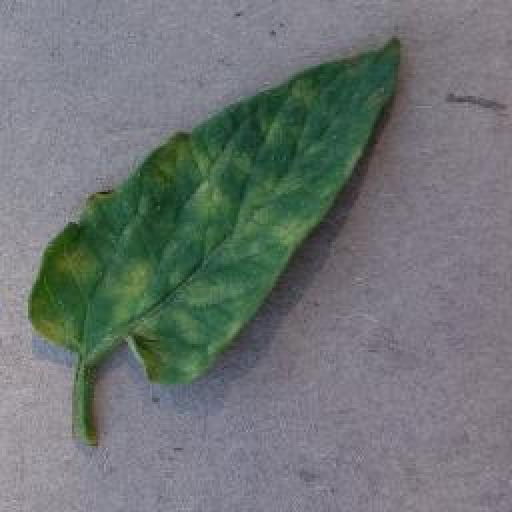Leaf Mold: (27, 36, 395, 387)
